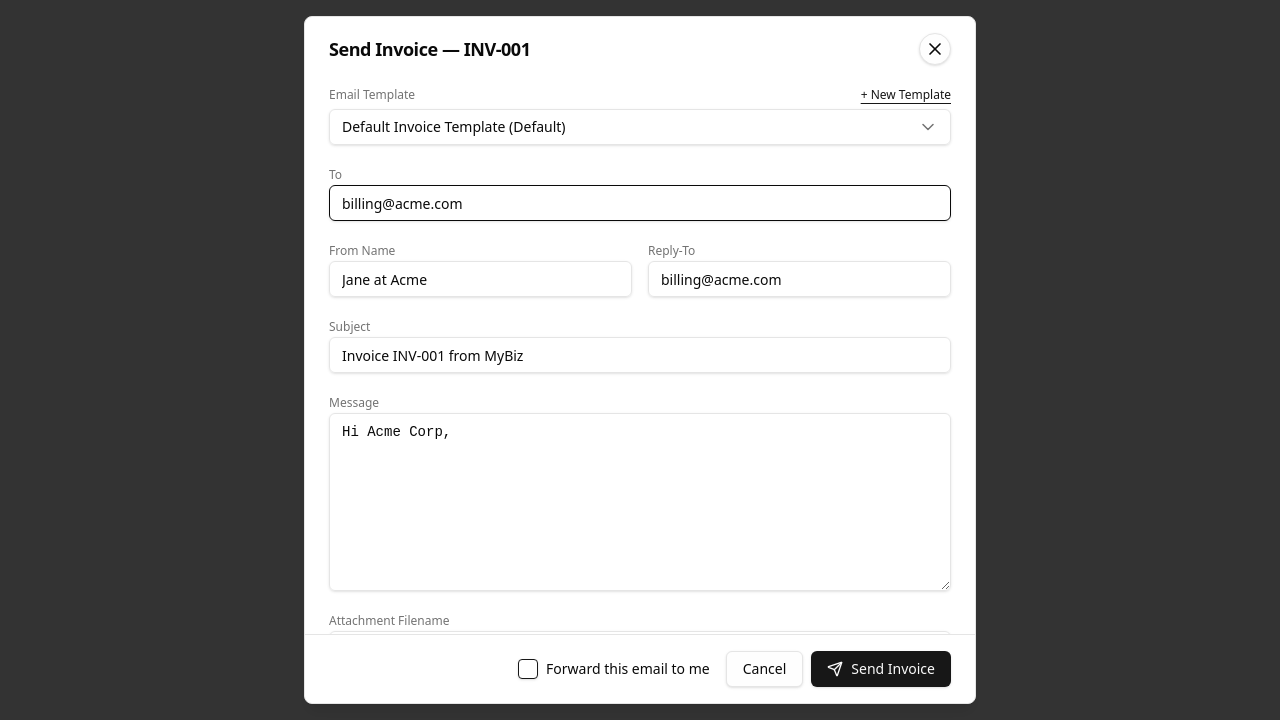
Scenario: EmailPreviewModal › blocks canceled invoices before generating or sending an email
Click the button "Send Invoice" at (881, 669), box [811,651,951,687]
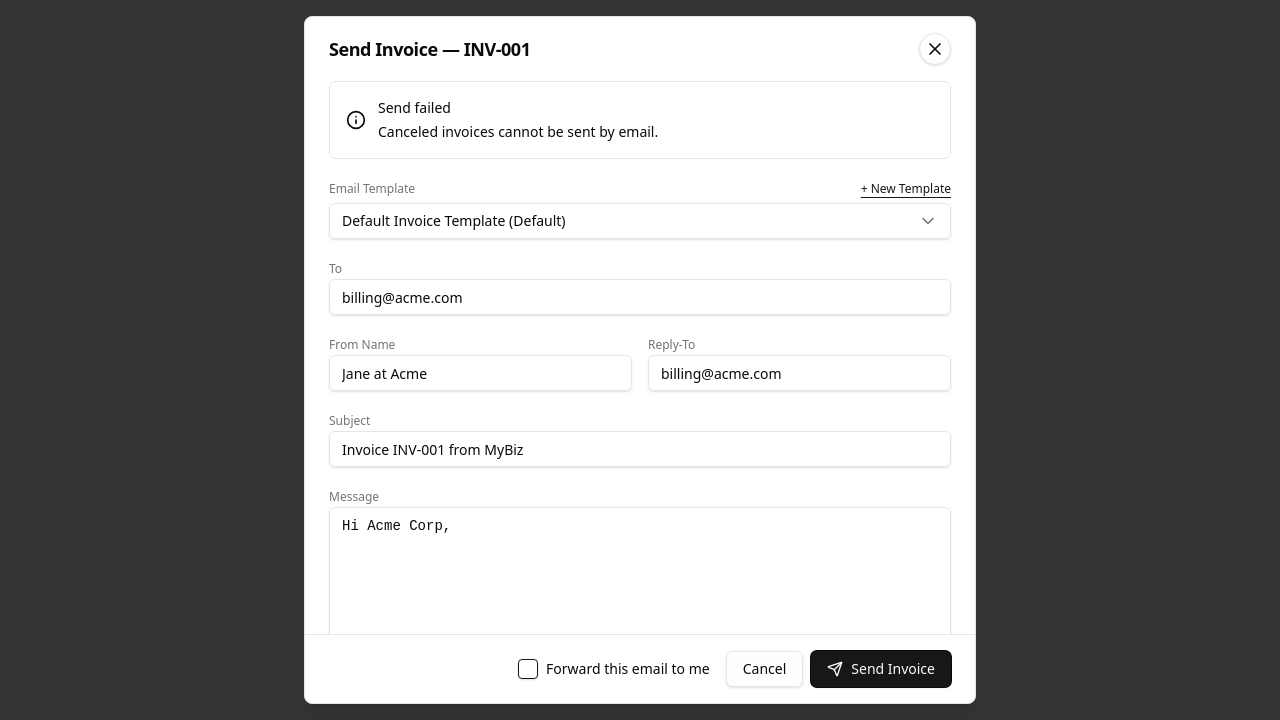
Expected: the text "Canceled invoices cannot be sent by email." is shown, [378,122,658,142]
